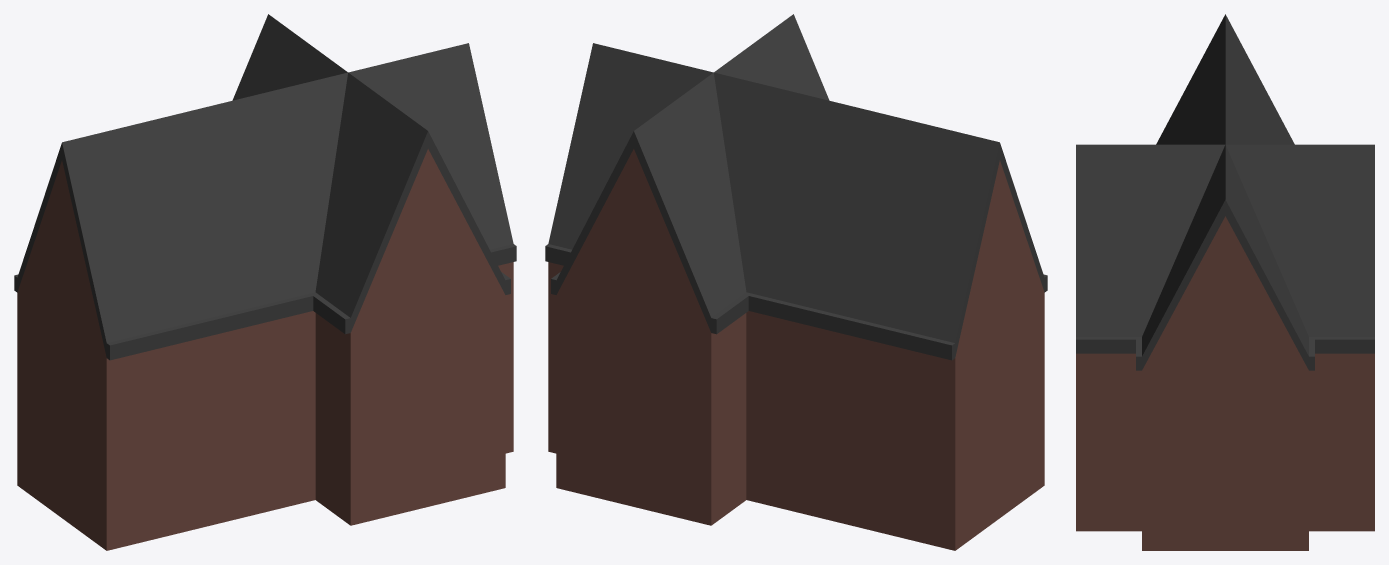
Rendered from hus_big.glb.
The picture shows the model from 3 angles, left to right: view 1: azimuth 30°, elevation 25°; view 2: azimuth 150°, elevation 25°; view 3: azimuth 270°, elevation 25°; orthographic projection. The views are drawn at different scales.
Parts seen in each view (by area): view 1: Hus_big_lofi; view 2: Hus_big_lofi; view 3: Hus_big_lofi.
Boxes of the visible parts, x1,y1,x2,y2 form: Hus_big_lofi: (14, 14, 516, 550); Hus_big_lofi: (545, 14, 1047, 550); Hus_big_lofi: (1076, 14, 1374, 550).
Bounding box in the file's own units: 8 × 7.06 × 5.44.
